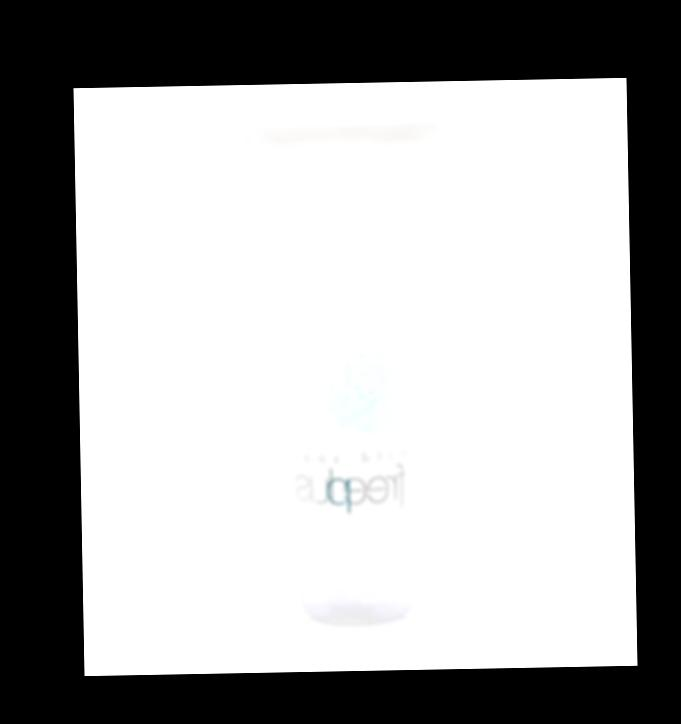cosmetic: (233, 114, 450, 628)
